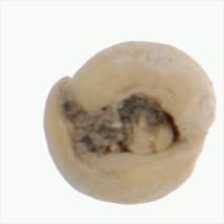L3: (71, 91, 181, 164)
L4: (43, 40, 217, 205)
